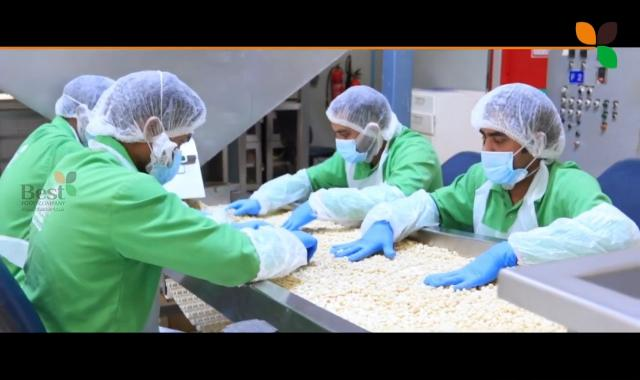hairnet: (96, 72, 208, 145), (474, 84, 562, 162), (328, 81, 397, 142)
